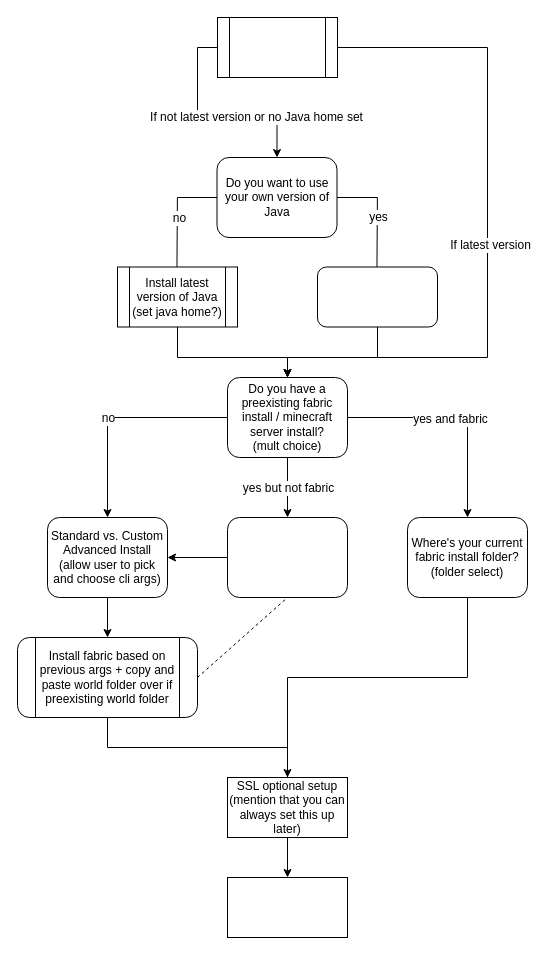
The diagram is 548 pixels wide and 955 high, and some of its shapes have lost their labels. The centre of each missing label's shape, as x and y in pixels:
Admin Account password entry: pixel 287 907
Check if Java is set and what version it is: pixel 277 47
File Select for Java or offer whatever Java home's set to: pixel 377 296
Where's your current world folder? (folder select): pixel 287 557
